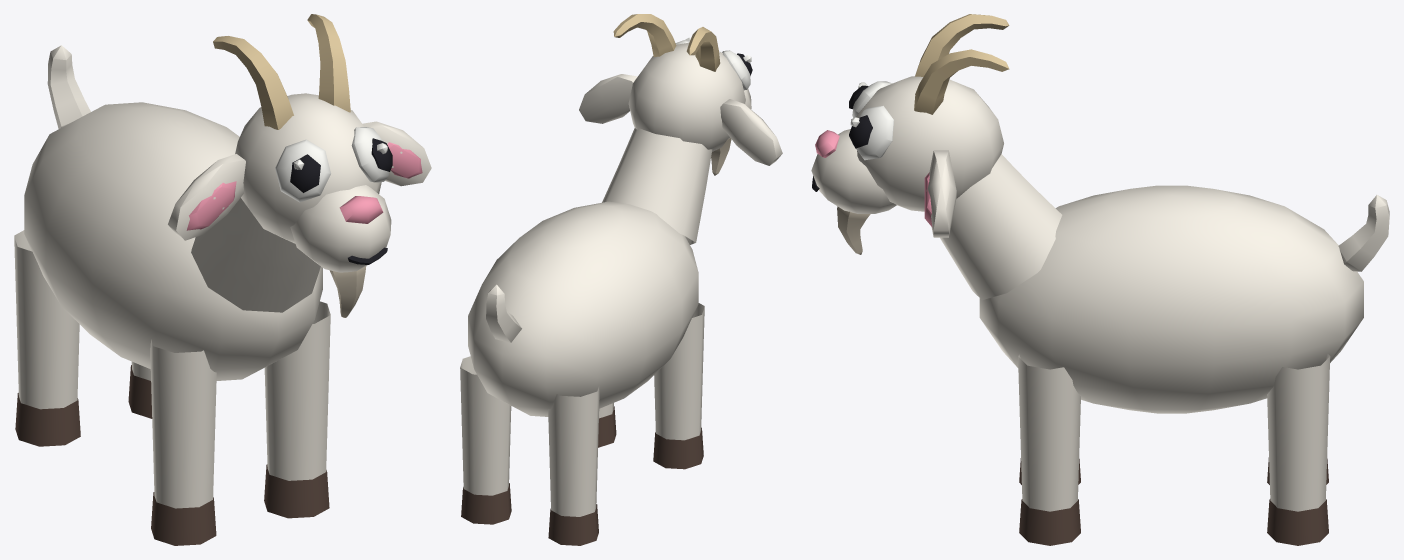
File: Cabra.fbx
The picture shows the model from 3 angles, left to right: view 1: azimuth 30°, elevation 25°; view 2: azimuth 150°, elevation 25°; view 3: azimuth 270°, elevation 25°; orthographic projection. The views are drawn at different scales.
Parts seen in each view (by area): view 1: Cabra; view 2: Cabra; view 3: Cabra.
Part boxes in pixels (x1,y1,x2,y2): Cabra: (14,14,431,545); Cabra: (460,14,782,545); Cabra: (811,14,1389,545).
Bounding box in the file's own units: 1.18 × 2.29 × 2.52.
1 material, 1 textured.
